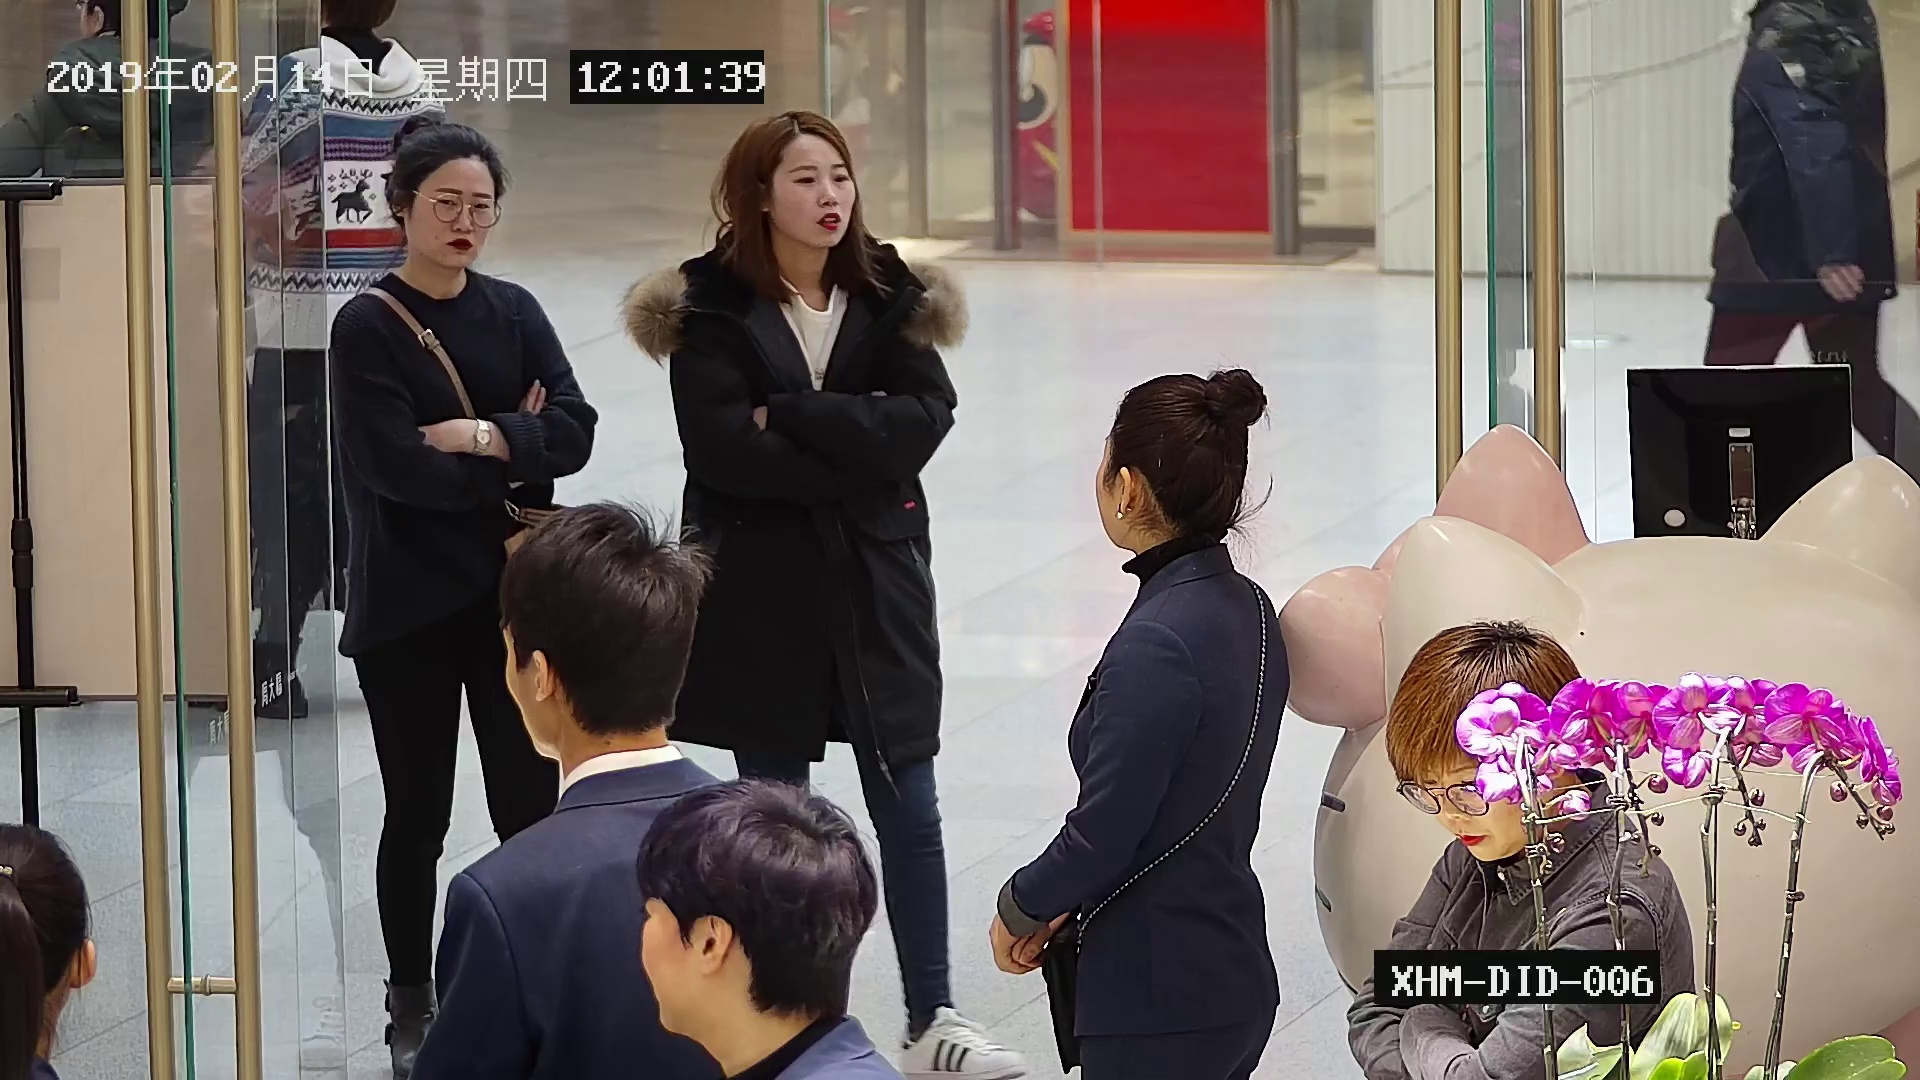head: (632, 778, 867, 1035), (498, 502, 697, 759), (1382, 622, 1583, 863), (1092, 376, 1249, 549), (0, 820, 99, 1029), (386, 122, 507, 269), (730, 110, 855, 249), (79, 0, 168, 49), (313, 0, 398, 32)
